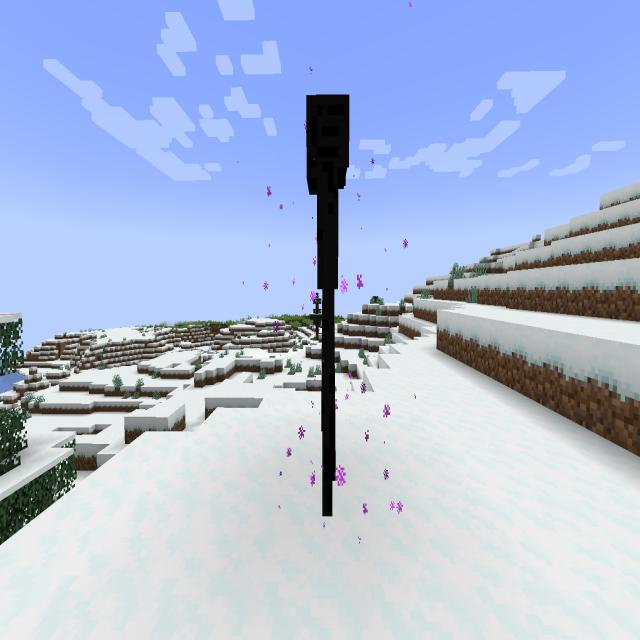Enderman: (299, 82, 362, 528)
